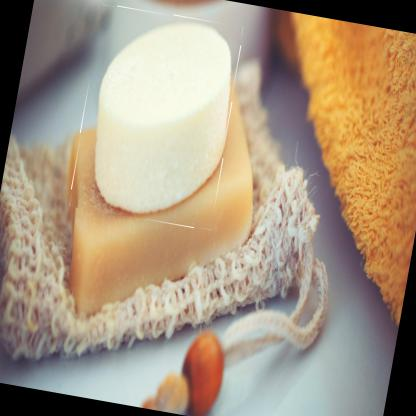soap: (66, 2, 244, 231)
